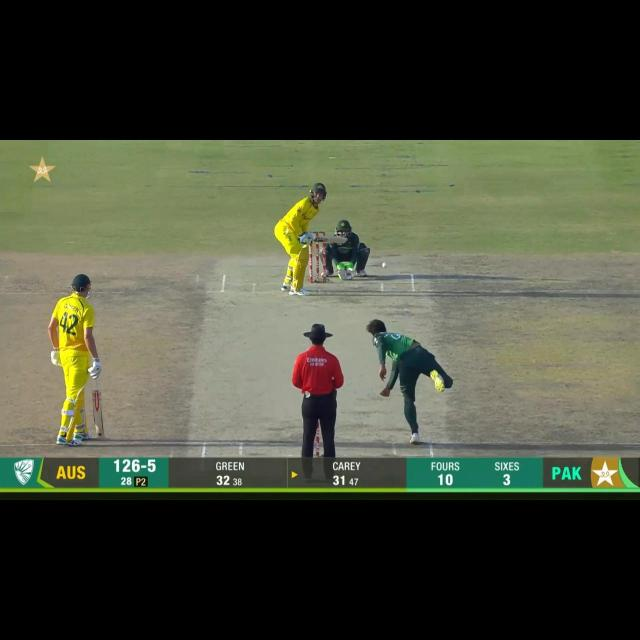bat: (88, 388, 109, 439), (314, 234, 348, 245)
toe: (92, 427, 104, 439), (337, 236, 349, 246)
